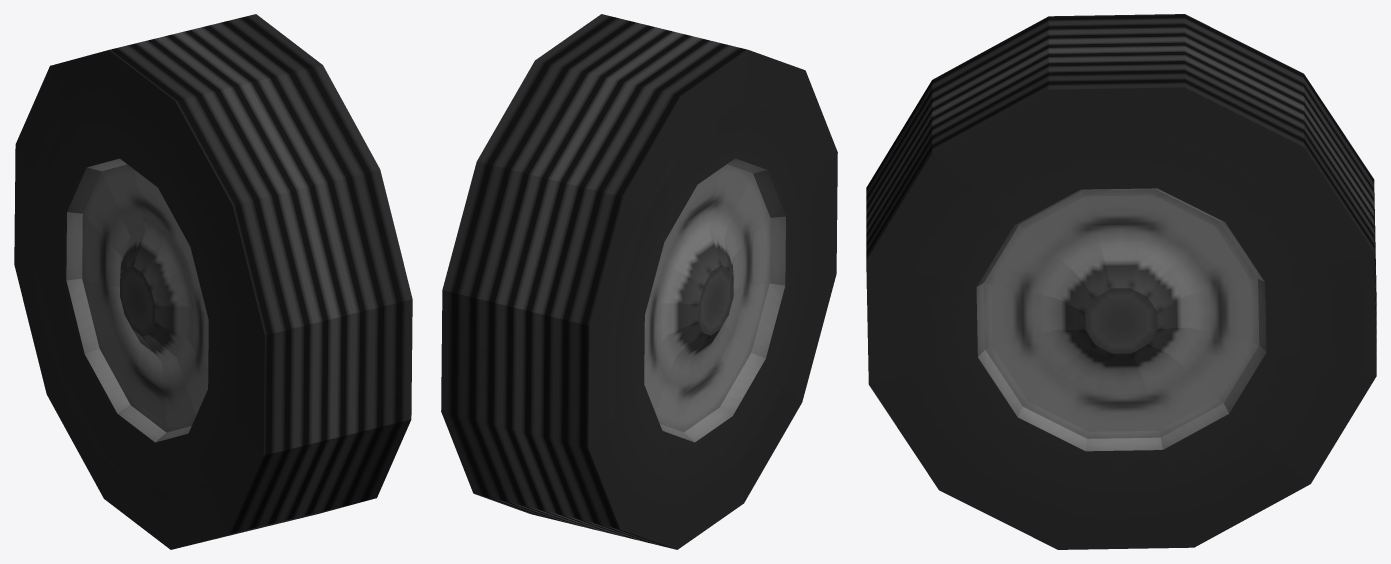
The model's file is D35WheelA.fbx.
The picture shows the model from 3 angles, left to right: view 1: azimuth 30°, elevation 25°; view 2: azimuth 150°, elevation 25°; view 3: azimuth 270°, elevation 25°; orthographic projection. The views are drawn at different scales.
Parts seen in each view (by area): view 1: GavrilWheel.003; view 2: GavrilWheel.003; view 3: GavrilWheel.003.
Part boxes in pixels (x1,y1,x2,y2): GavrilWheel.003: [14, 14, 412, 549]; GavrilWheel.003: [441, 14, 837, 549]; GavrilWheel.003: [866, 14, 1376, 549].
Bounding box in the file's own units: 0.3705 × 1.04 × 1.04.
